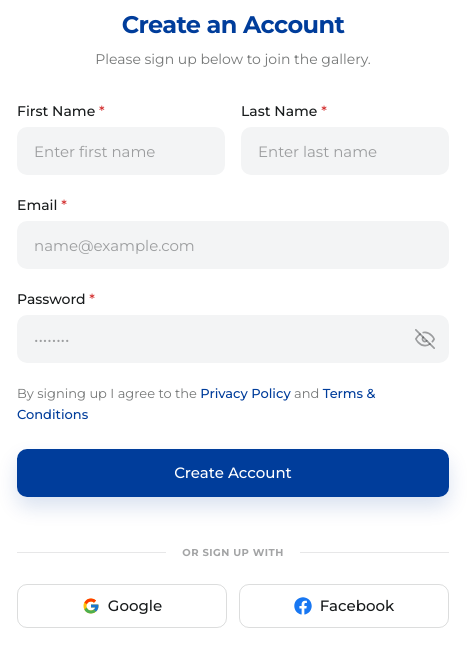
Test: Register › shows validation error when required fields are missing
Click the button "Create Account" at coordinates (233, 473), box [17,449,449,497]
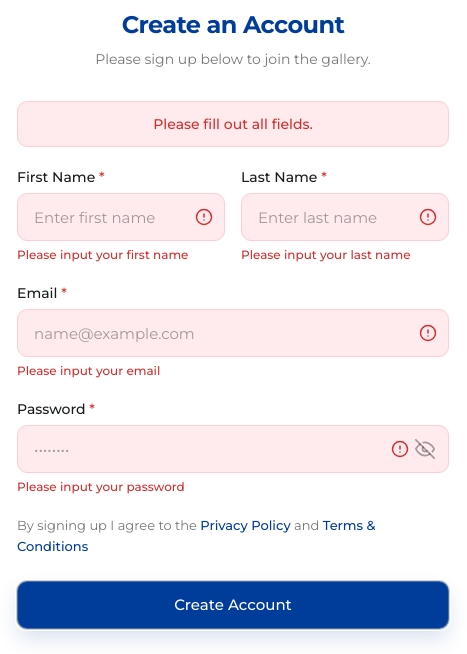
Check: the text "Please fill out all fields." is shown, box [17,101,449,147]
